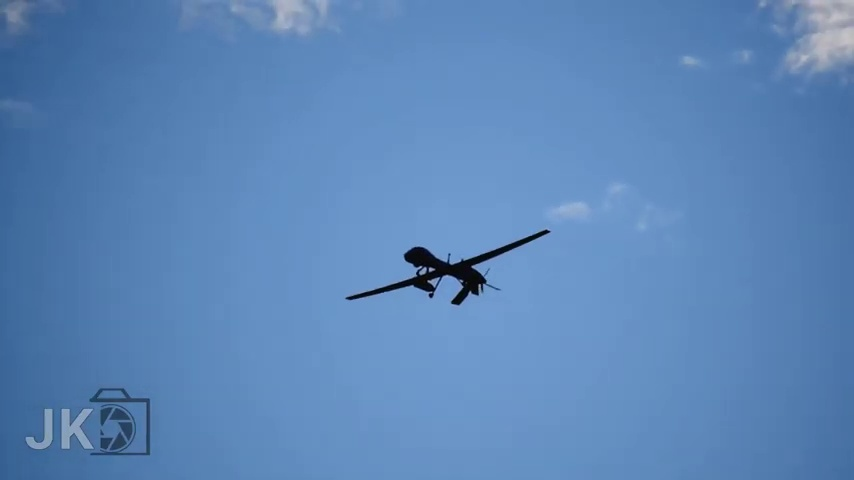military drone: (344, 229, 551, 305)
